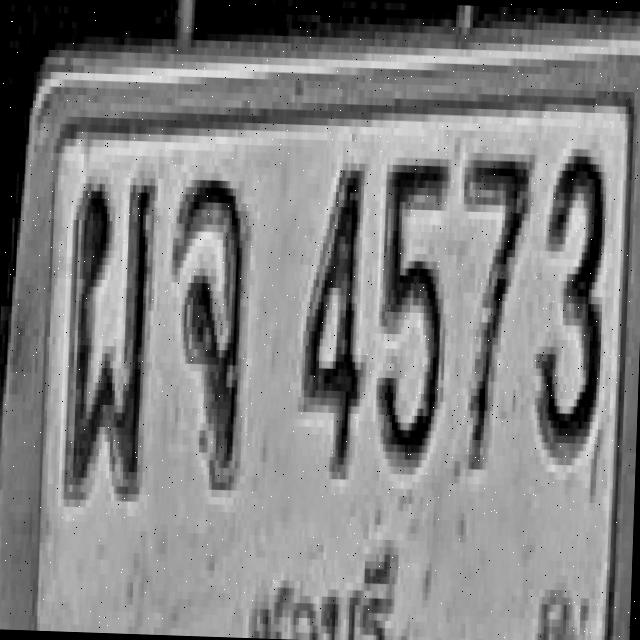17ChorChan: (165, 172, 248, 482)
3: (532, 143, 608, 454)
37PhorPhueng: (62, 172, 154, 498)
4: (298, 162, 367, 472)
5: (375, 149, 450, 468)
7: (454, 148, 532, 467)
